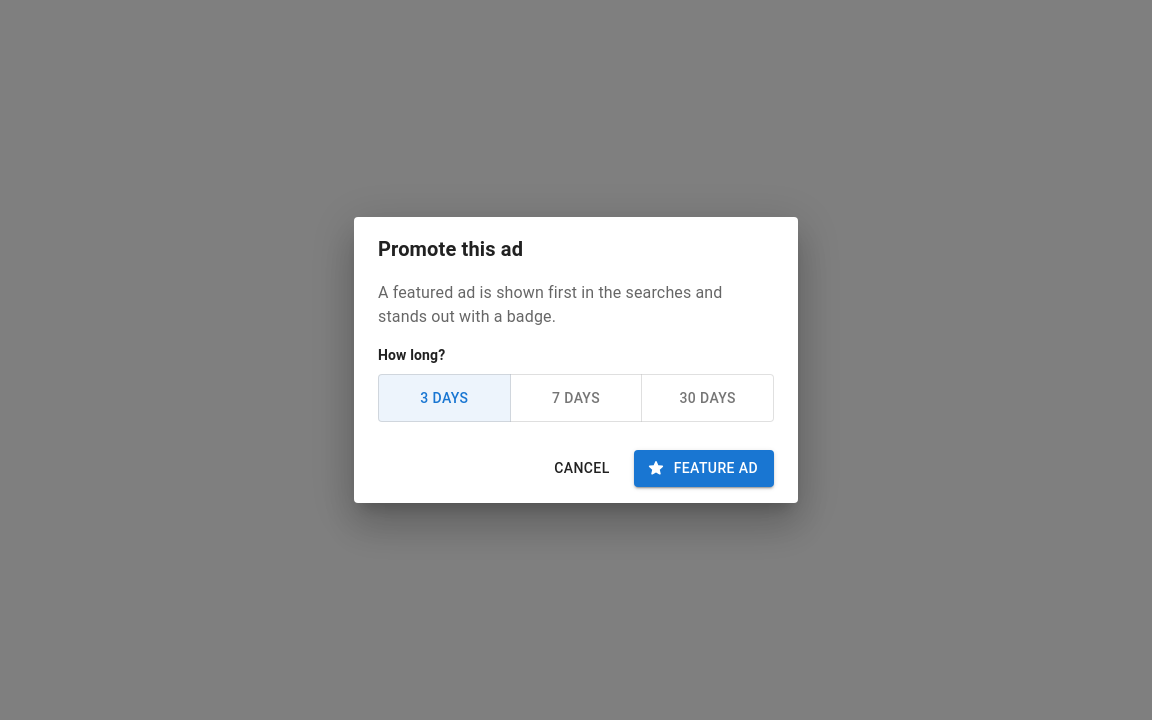
FeatureDialog › stays open and says why when the API refuses
Click the button "Feature ad".
click(704, 468)  # box [634, 450, 774, 486]
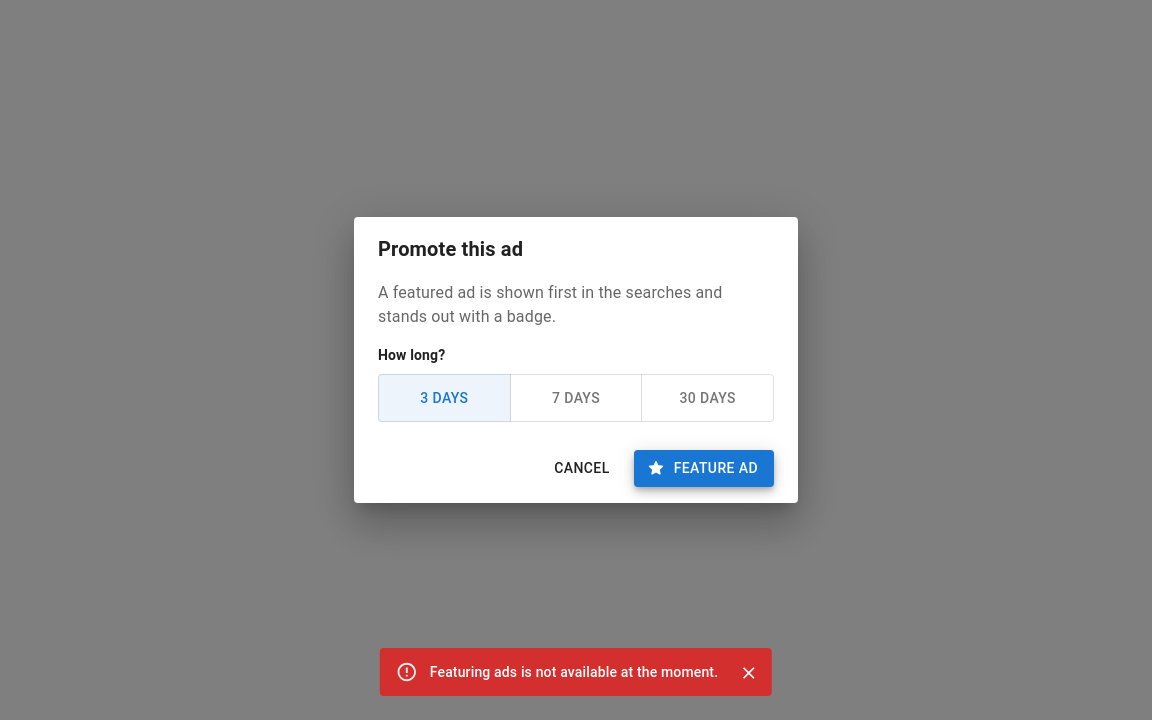
Expected: the text "Featuring ads is not available at the moment." is shown, [430, 664, 718, 680]
